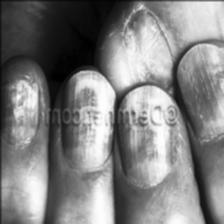Toxin: (176, 41, 224, 106), (62, 68, 119, 109)
